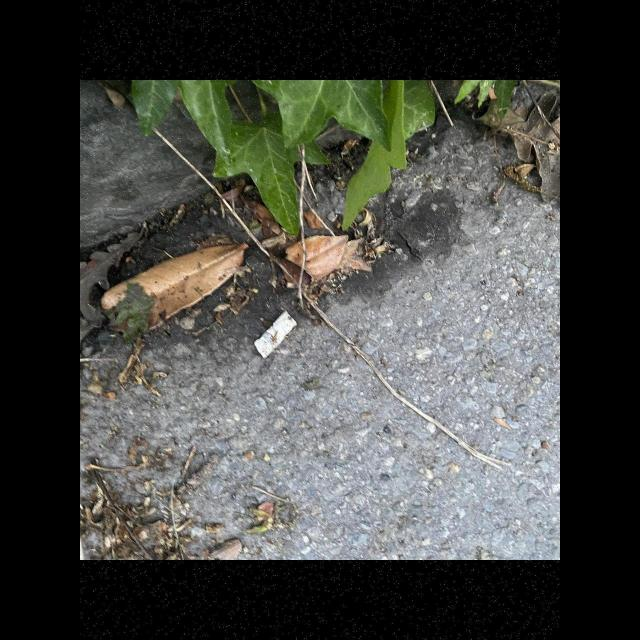cigarette: (252, 310, 296, 359)
